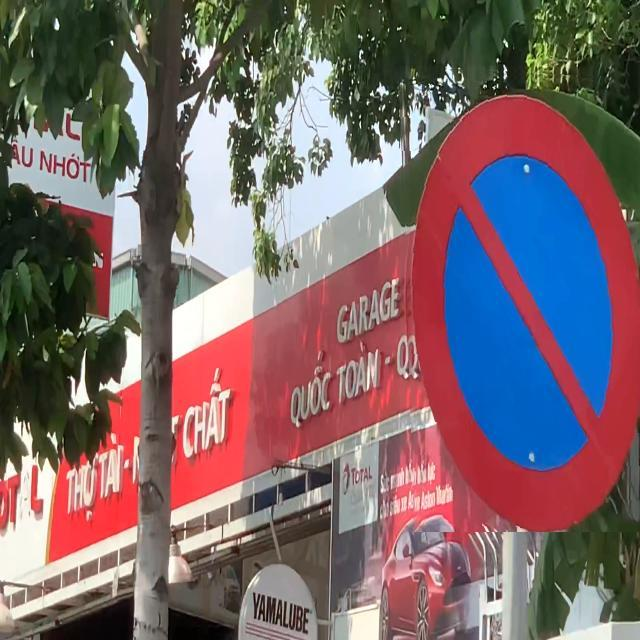P-131a: (400, 66, 640, 532)
